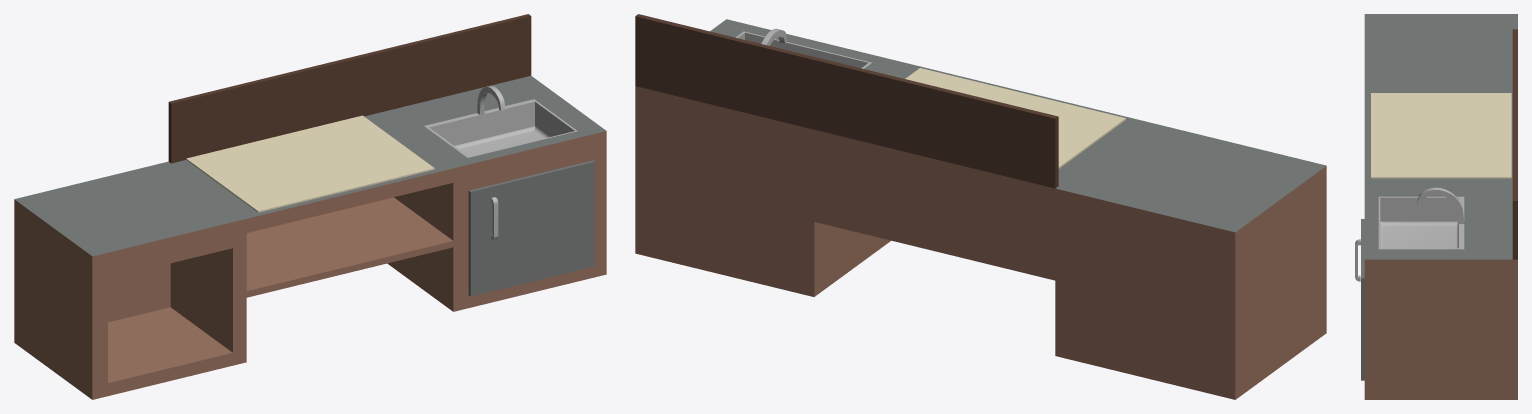
File: SM_Counter.fbx
3 views of the same model, side by side, from view 1: azimuth 30°, elevation 25°; view 2: azimuth 150°, elevation 25°; view 3: azimuth 270°, elevation 25° (orthographic). The views are drawn at different scales.
Parts seen in each view (by area): view 1: shelf_handles; view 2: shelf_handles; view 3: shelf_handles.
Boxes of the visible parts, left/top/right/bottom form: shelf_handles: left=14, top=14, right=606, bottom=399; shelf_handles: left=635, top=14, right=1326, bottom=399; shelf_handles: left=1355, top=14, right=1517, bottom=399.
Size of the model in its own units: 432 by 163 by 121.
